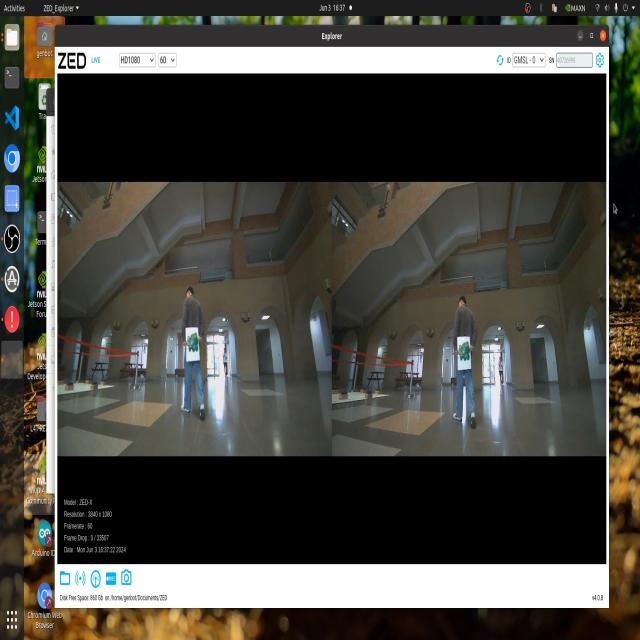green: (187, 328, 201, 361), (457, 340, 471, 368)
